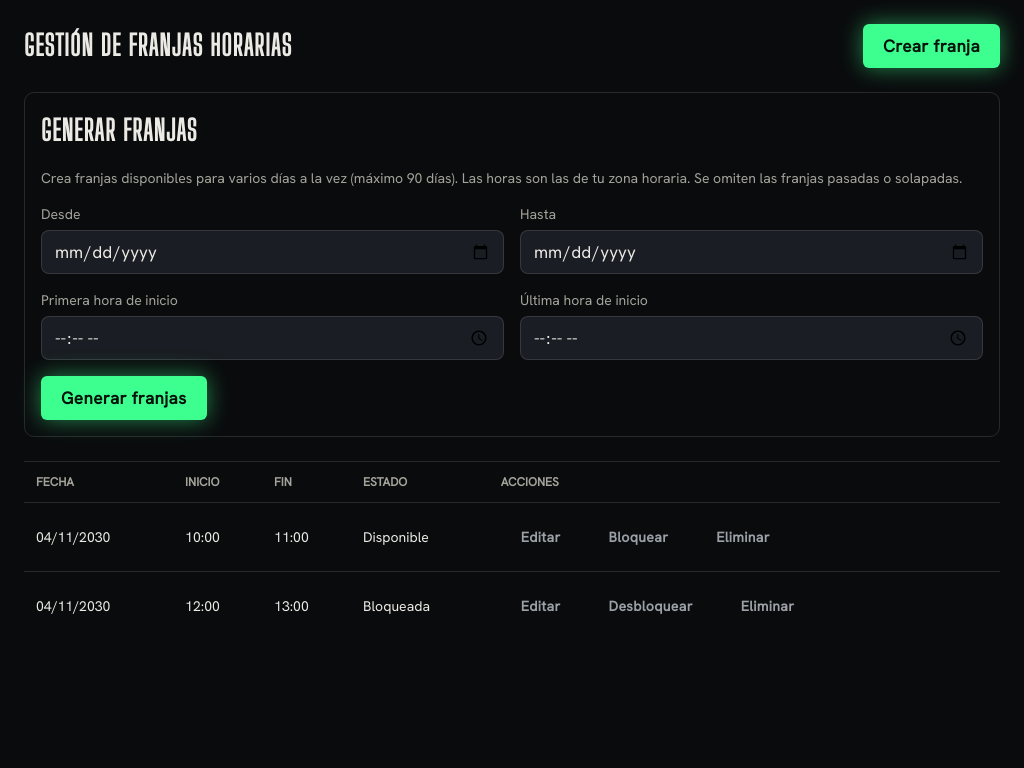
Test: AdminSlotsPage › muestra NOT_FOUND si la franja ya no existe
Expected: the text "10:00" is shown, [173,503,262,572]
Click the button "Eliminar" in the row of "10:00": (743, 537) [696,515,790,559]
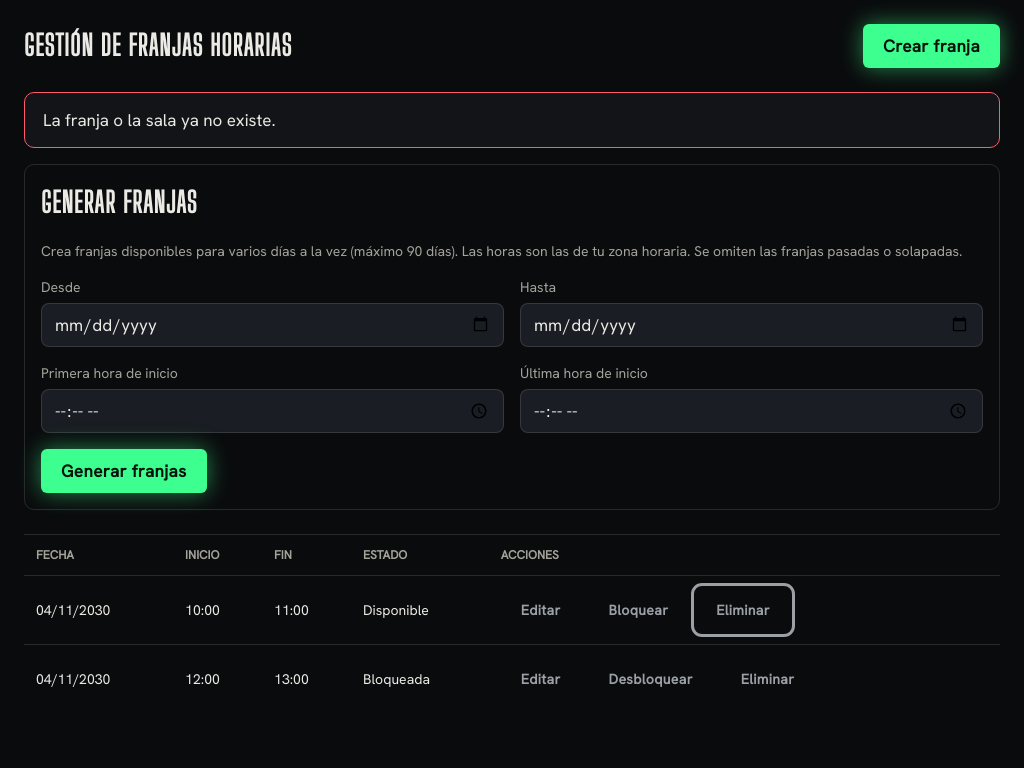
Result: the message shows "ya no existe" at [43,109,276,131]
